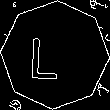L_N: (38, 29, 72, 81)
